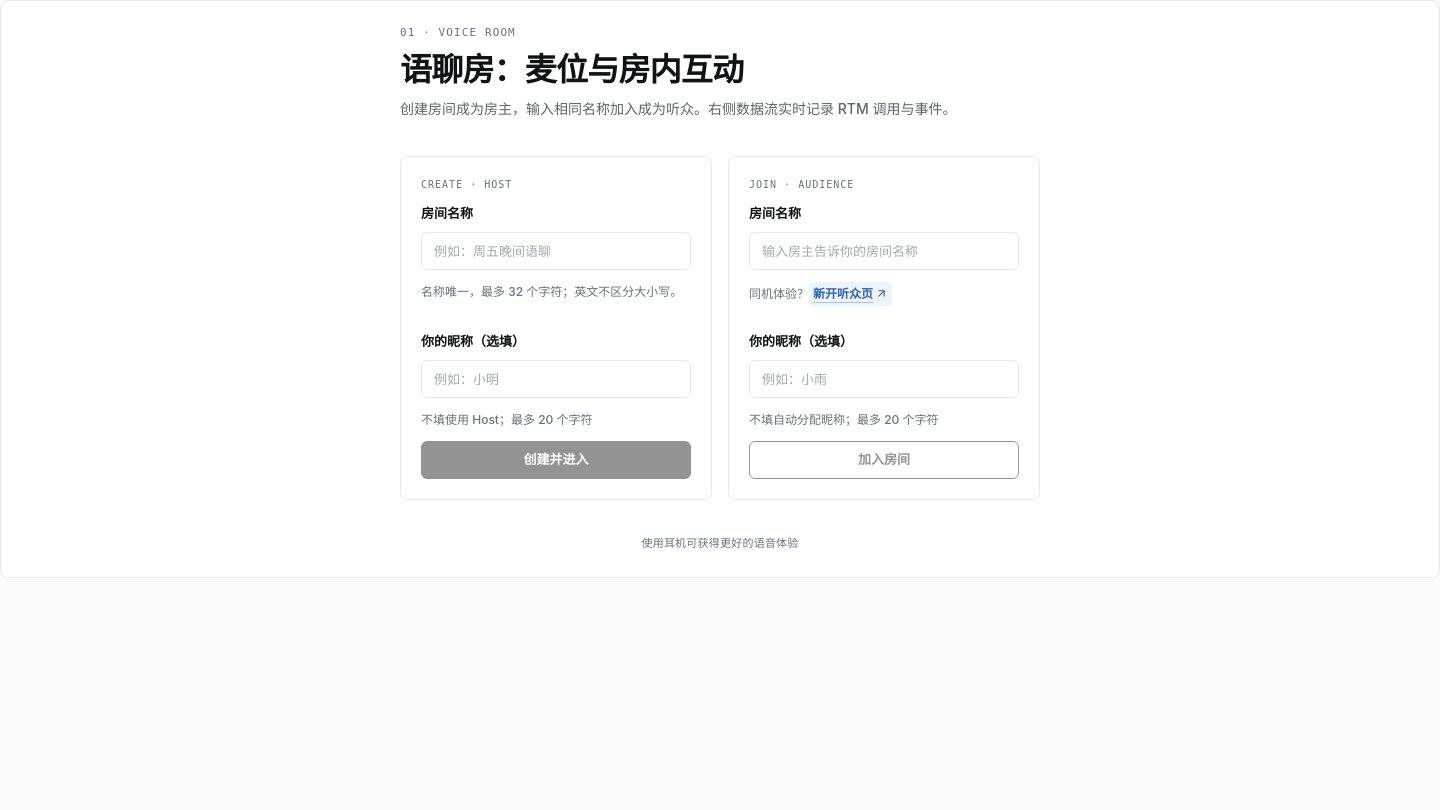
Test: 入口选填昵称 › 按名称加入失败后保留昵称草稿，修改后重试使用新的昵称
The image size is (1440, 810).
Type "重试昵称" into the field named "加入的房间名称" at (884, 251), box [749,232,1019,270]
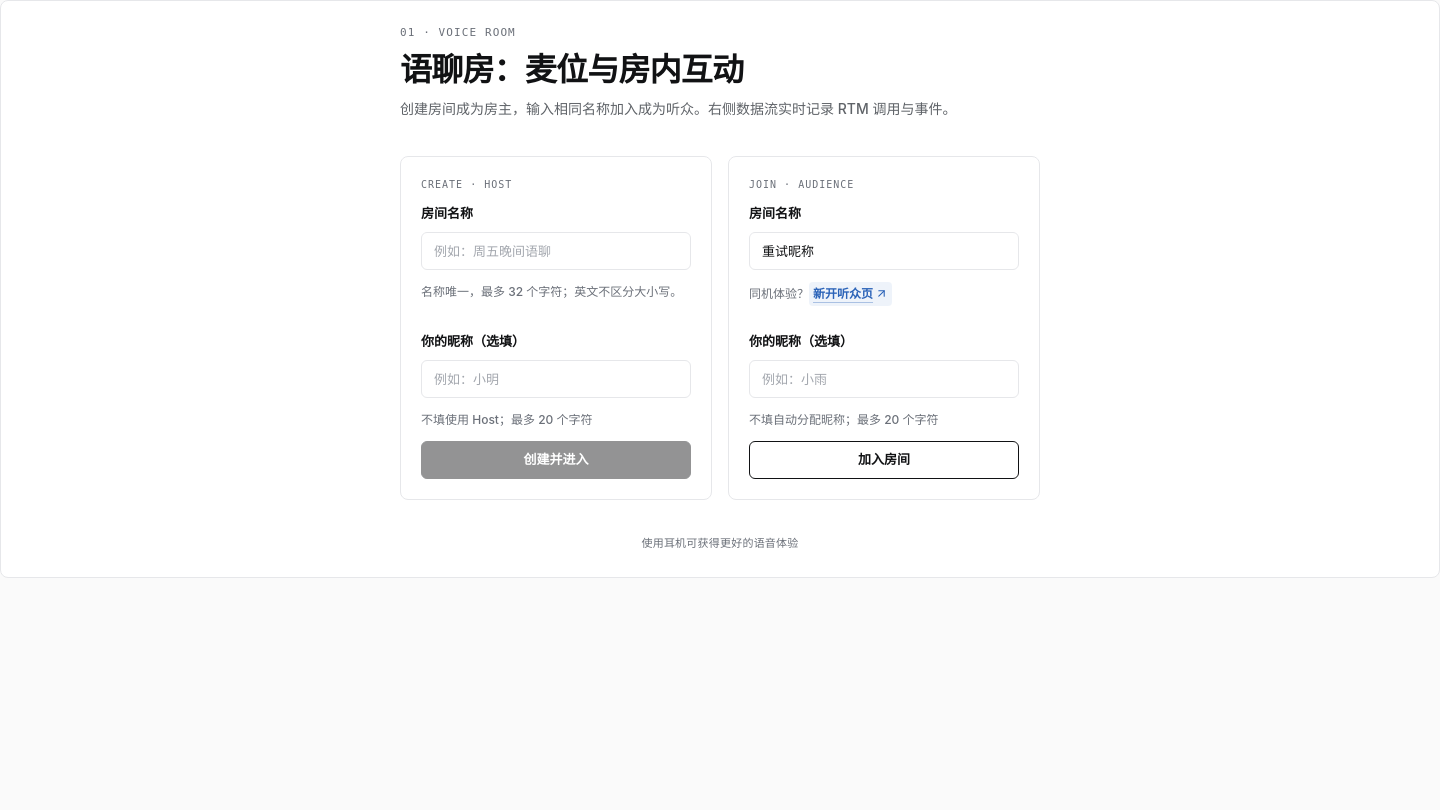
Type "第一次草稿" into the field named "观众昵称" at (884, 379), box [749,360,1019,398]
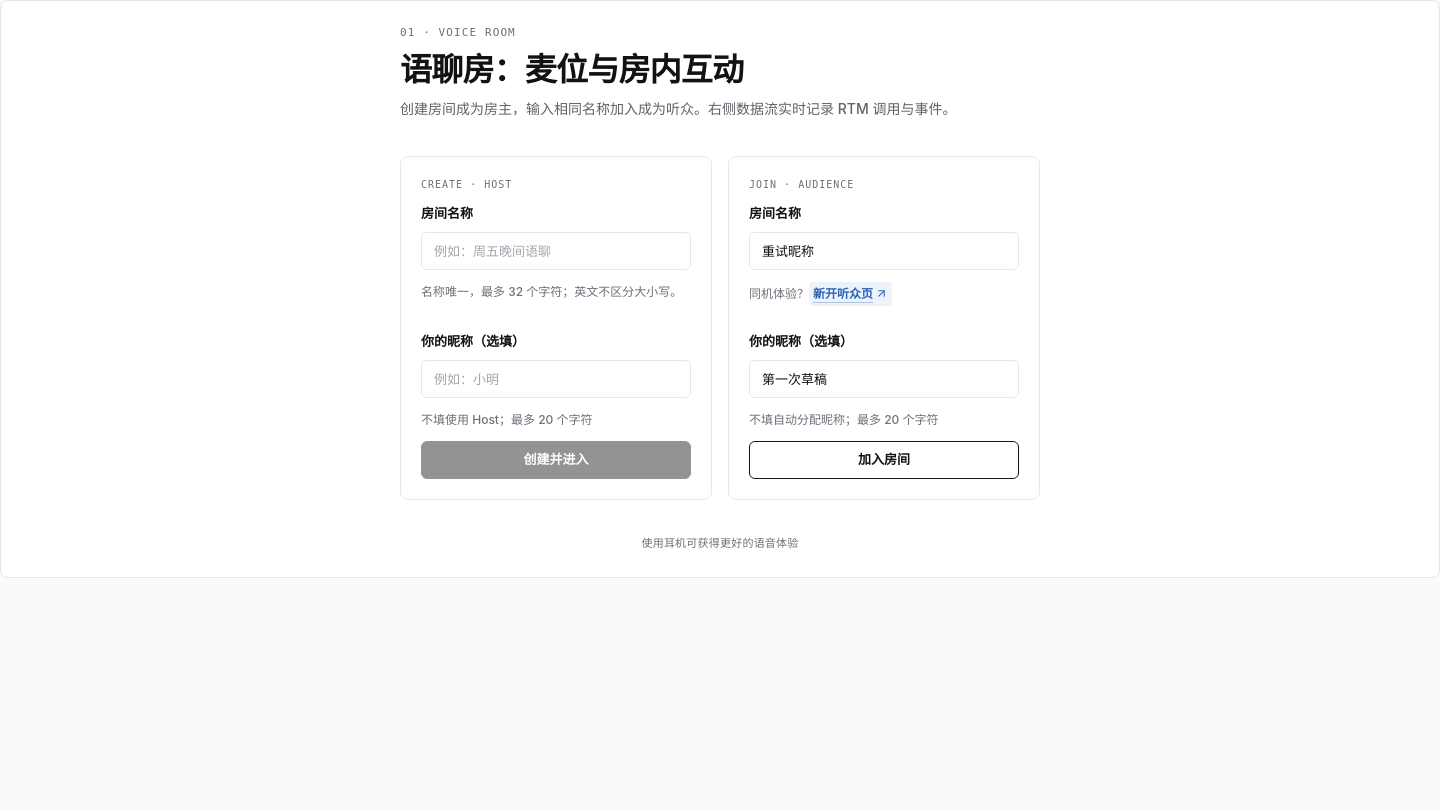
Click the button "加入房间" at (884, 460), box [749,441,1019,479]
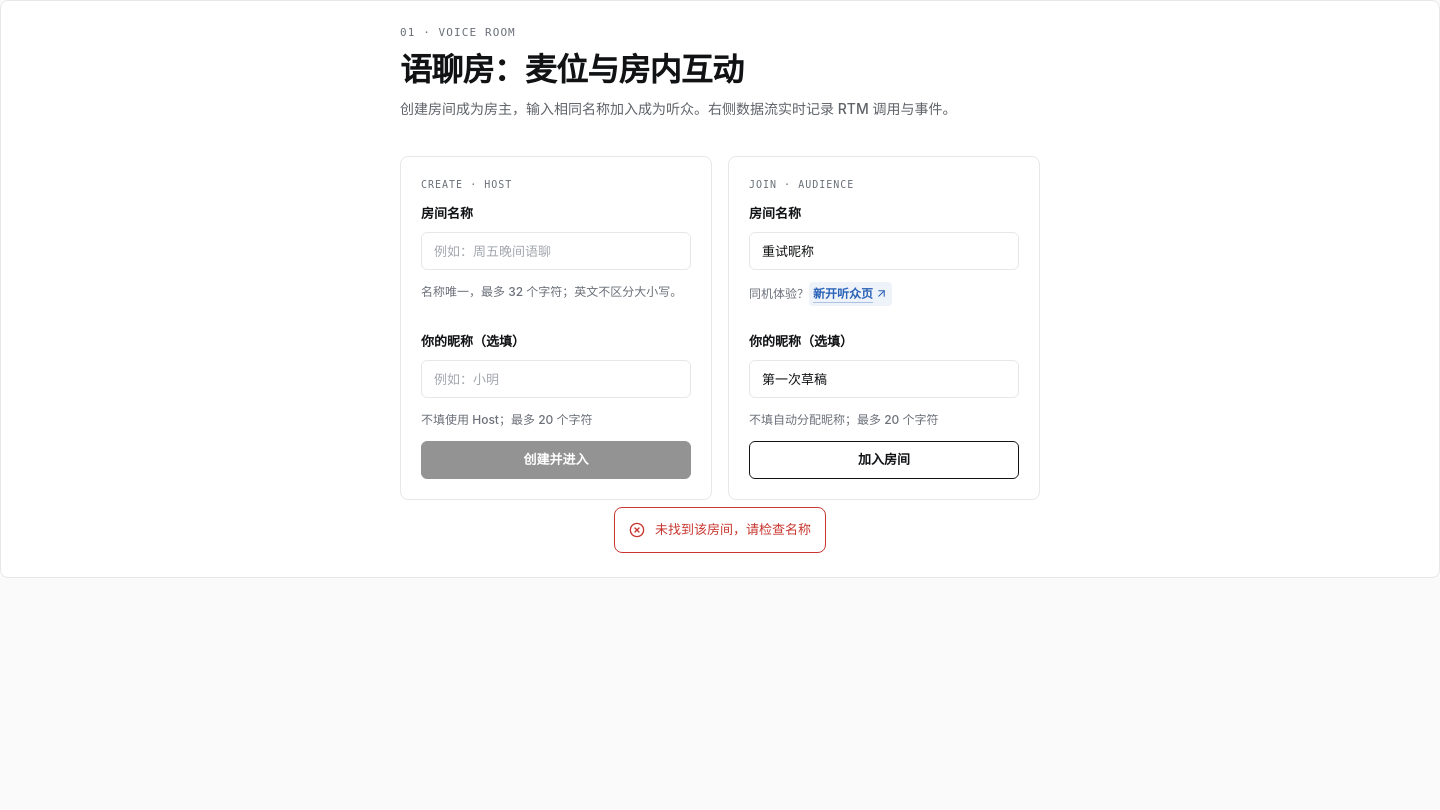
Expected: the message shows "未找到该房间", [655,521,811,537]
Replace the text in the field named "观众昵称" with "修改后的昵称" at (884, 379), box [749,360,1019,398]
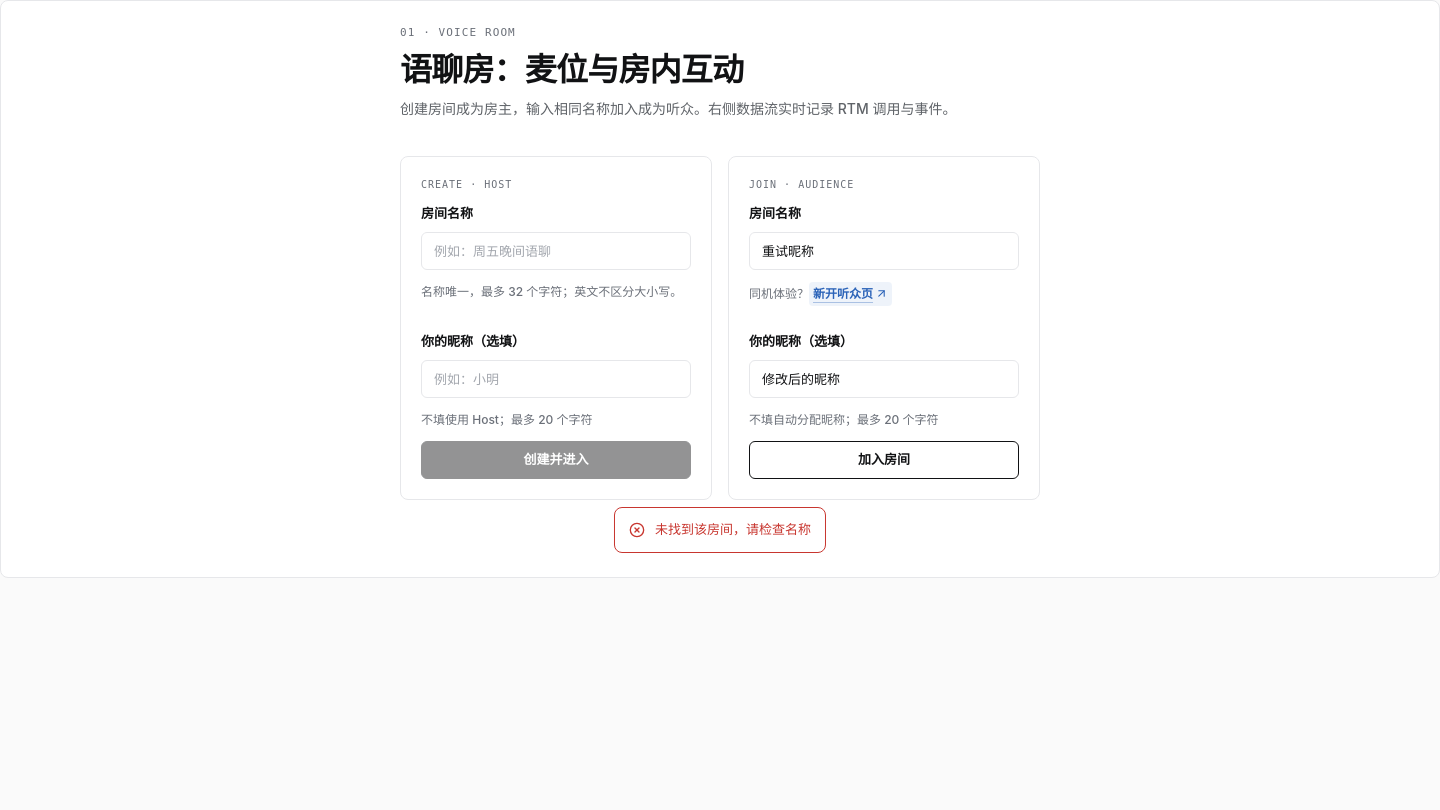
Click the button "加入房间" at (884, 460), box [749,441,1019,479]
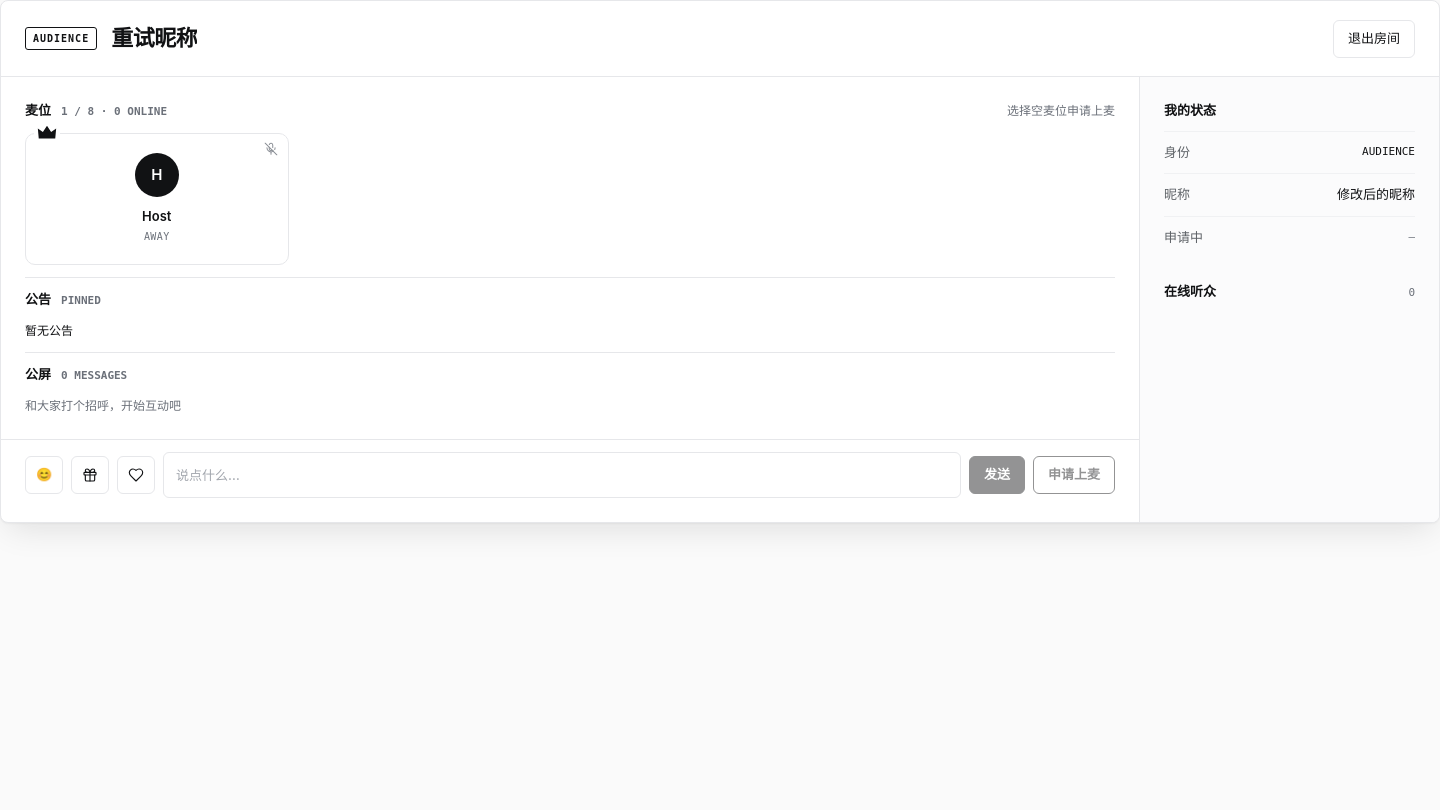
Expected: the element named "听众语聊房" is shown
Expected: the text "修改后的昵称" is shown, [1337,185,1415,204]
